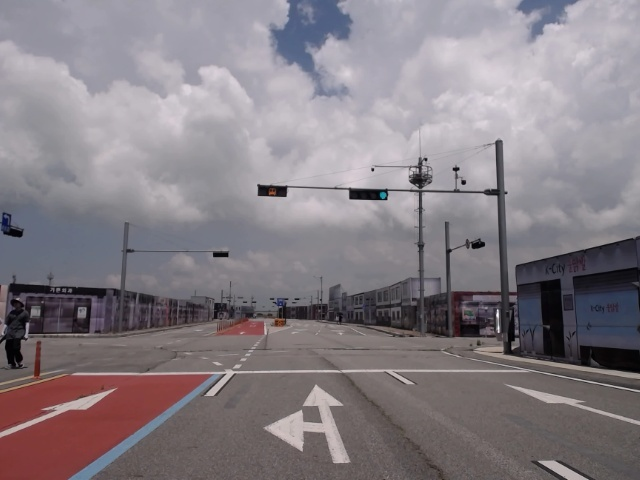straight_green_4: (348, 190, 391, 201)
